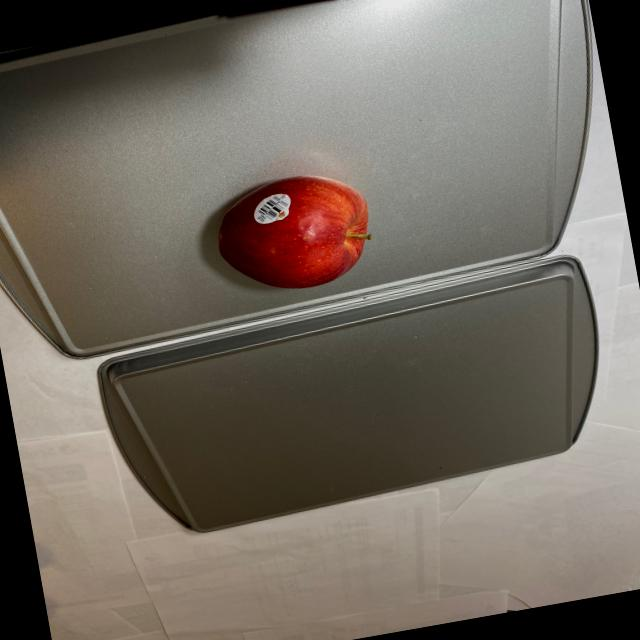apple: (205, 166, 383, 302)
